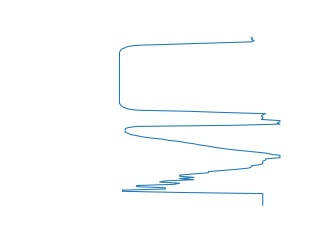aeolianDune: (113, 36, 269, 120)
beach: (122, 116, 283, 163)
proximalDeepseaFan: (119, 155, 269, 208)
